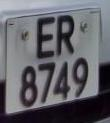4: (53, 59, 74, 104)
7: (37, 61, 57, 106)
8: (18, 61, 40, 111)
9: (70, 55, 92, 103)
E: (33, 14, 58, 64)
R: (54, 13, 78, 62)
